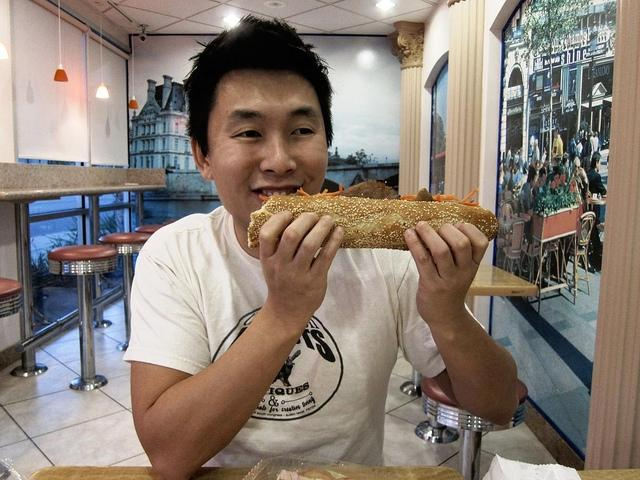carrot: (459, 186, 479, 204), (311, 191, 339, 196), (399, 194, 417, 201), (432, 194, 456, 199), (258, 194, 270, 201), (297, 190, 310, 196), (436, 193, 442, 203), (340, 183, 342, 193)
